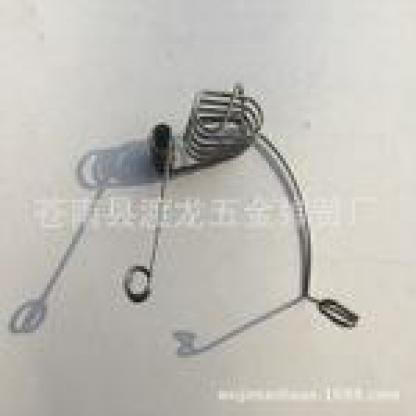FOD: (182, 80, 362, 330)
